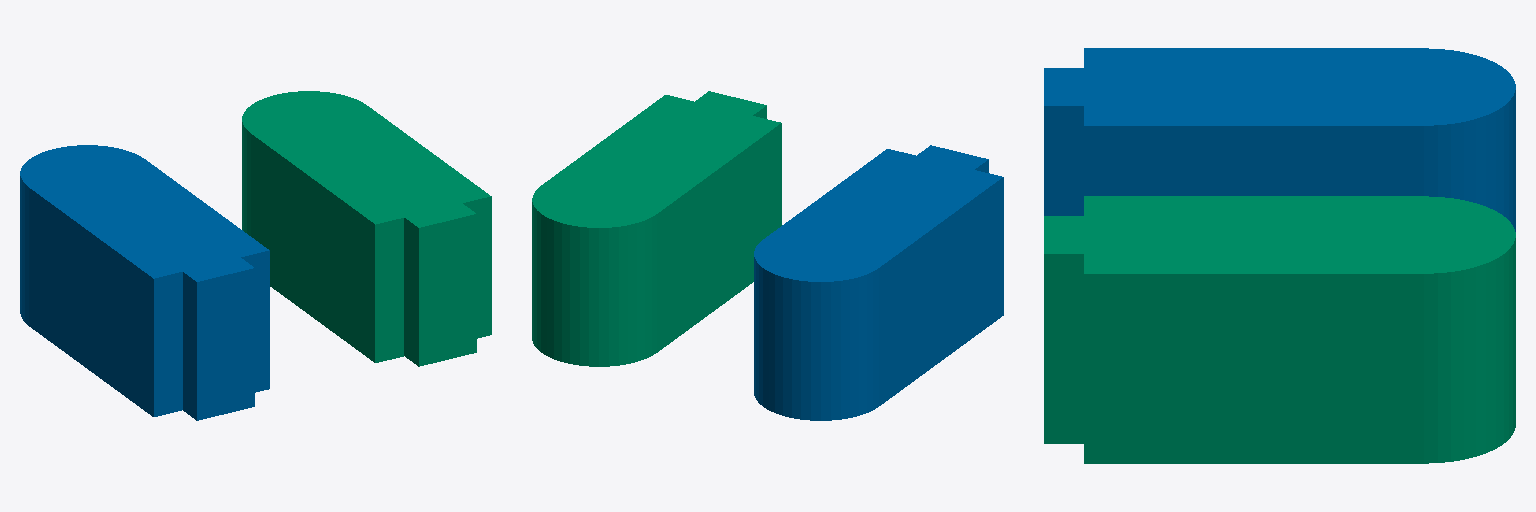
URDF robot description (2v2_50.50_50.50_1.1_53):
<?xml version="1.0" ?>
<robot name="2v2_50.50_50.50_1.1_53">

    <link name="palm">
        <visual>
            <origin rpy="0 0 0" xyz="0 0 0"/>
            <geometry>
                <mesh filename="obj_files/palm.obj" scale="1 1 1"/>
            </geometry>
        </visual>
        <collision>
            <geometry>
                <mesh filename="obj_files/palm_collision.obj" scale="1 1 1"/>
            </geometry>
        </collision>
        <inertial>
            <mass value="1"/>
            <inertia ixx="0.4" ixy="0.0" ixz="0.0" iyy="0.4" iyz="0.0" izz="0.2"/>
        </inertial>
    </link>

    <link name="finger0_segment0">
        <visual>
            <origin rpy="0 0 0" xyz="0 0 0"/>
            <geometry>
                <mesh filename="obj_files/finger0_segment0.obj" scale="1 1 1"/>
            </geometry>
        </visual>
        <collision>
            <geometry>
                <mesh filename="obj_files/finger0_segment0_collision.obj" scale="1 1 1"/>
            </geometry>
        </collision>
        <inertial>
            <mass value="0.1"/>
            <inertia ixx="0.4" ixy="0.0" ixz="0.0" iyy="0.4" iyz="0.0" izz="0.2"/>
        </inertial>
    </link>

    <joint name="finger0_segment0_joint" type="revolute">
        <parent link="palm"/>
        <child link="finger0_segment0"/>
        <origin rpy="0 0 0" xyz="0.02675 0 0.0"/>
        <axis xyz="0 0 1"/>
        <limit effort="1000.0" lower="-3.14" upper="3.14" velocity="0.5"/>
    </joint>

    <link name="finger0_segment1">
        <visual>
            <origin rpy="0 0 0" xyz="0 0 0"/>
            <geometry>
                <mesh filename="obj_files/more-accurate-finger-tip.obj" scale="0.001 0.001 0.001"/>
            </geometry>
        </visual>
        <collision>
            <geometry>
                <mesh filename="obj_files/more-accurate-finger-tip-collision.obj" scale="0.001 0.001 0.001"/>
            </geometry>
        </collision>
        <inertial>
            <mass value="0.1"/>
            <inertia ixx="0.4" ixy="0.0" ixz="0.0" iyy="0.4" iyz="0.0" izz="0.2"/>
        </inertial>
    </link>

    <joint name="finger0_segment1_joint" type="revolute">
        <parent link="finger0_segment0"/>
        <child link="finger0_segment1"/>
        <origin rpy="0 0 0" xyz="0 0.072 0"/>
        <axis xyz="0 0 1"/>
        <limit effort="1000.0" lower="-3.14" upper="3.14" velocity="0.5"/>
    </joint>

    <link name="finger1_segment0">
        <visual>
            <origin rpy="0 0 0" xyz="0 0 0"/>
            <geometry>
                <mesh filename="obj_files/finger1_segment0.obj" scale="1 1 1"/>
            </geometry>
        </visual>
        <collision>
            <geometry>
                <mesh filename="obj_files/finger1_segment0_collision.obj" scale="1 1 1"/>
            </geometry>
        </collision>
        <inertial>
            <mass value="0.1"/>
            <inertia ixx="0.4" ixy="0.0" ixz="0.0" iyy="0.4" iyz="0.0" izz="0.2"/>
        </inertial>
    </link>

    <joint name="finger1_segment0_joint" type="revolute">
        <parent link="palm"/>
        <child link="finger1_segment0"/>
        <origin rpy="0 0 0" xyz="-0.02675 0 3.27593018771917e-18"/>
        <axis xyz="0 0 1"/>
        <limit effort="1000.0" lower="-3.14" upper="3.14" velocity="0.5"/>
    </joint>

    <link name="finger1_segment1">
        <visual>
            <origin rpy="0 0 0" xyz="0 0 0"/>
            <geometry>
                <mesh filename="obj_files/more-accurate-finger-tip.obj" scale="0.001 0.001 0.001"/>
            </geometry>
        </visual>
        <collision>
            <geometry>
                <mesh filename="obj_files/more-accurate-finger-tip-collision.obj" scale="0.001 0.001 0.001"/>
            </geometry>
        </collision>
        <inertial>
            <mass value="0.1"/>
            <inertia ixx="0.4" ixy="0.0" ixz="0.0" iyy="0.4" iyz="0.0" izz="0.2"/>
        </inertial>
    </link>

    <joint name="finger1_segment1_joint" type="revolute">
        <parent link="finger1_segment0"/>
        <child link="finger1_segment1"/>
        <origin rpy="0 0 0" xyz="0 0.072 0"/>
        <axis xyz="0 0 1"/>
        <limit effort="1000.0" lower="-3.14" upper="3.14" velocity="0.5"/>
    </joint>

    <link name="finger0_sensor">
        <inertial>
            <mass value="0.000001"/>
            <inertia ixx="0.000004" ixy="0.0" ixz="0.0" iyy="0.000004" iyz="0.0" izz="0.000002"/>
        </inertial>
    </link>

    <joint name="finger0_sensor1_joint" type="fixed">
        <parent link="finger0_segment1"/>
        <child link="finger0_sensor"/>
        <origin rpy="0 0 0" xyz="0 0.072 0"/>
        <axis xyz="0 0 1"/>
        <limit effort="1000.0" lower="-3.14" upper="3.14" velocity="0.5"/>
    </joint>


    <link name="finger1_sensor">
        <inertial>
            <mass value="0.000001"/>
            <inertia ixx="0.000004" ixy="0.0" ixz="0.0" iyy="0.000004" iyz="0.0" izz="0.000002"/>
        </inertial>
    </link>

    <joint name="finger1_sensor2_joint" type="fixed">
        <parent link="finger1_segment1"/>
        <child link="finger1_sensor"/>
        <origin rpy="0 0 0" xyz="0 0.072 0"/>
        <axis xyz="0 0 1"/>
        <limit effort="1000.0" lower="-3.14" upper="3.14" velocity="0.5"/>
    </joint>
</robot>

--- Render facts (derived) ---
The picture shows the robot from 3 angles, left to right: view 1: azimuth 30°, elevation 25°; view 2: azimuth 150°, elevation 25°; view 3: azimuth 270°, elevation 25°; orthographic projection.
Robot: 2v2_50.50_50.50_1.1_53 — 7 links, 6 joints (4 revolute, 2 fixed); root link palm; default pose: all joints at 0.
Visible links, largest first — view 1: finger1_segment1, finger0_segment1; view 2: finger1_segment1, finger0_segment1; view 3: finger0_segment1, finger1_segment1.
Link boxes in pixels (x1,y1,x2,y2): finger1_segment1: (20,145,269,420); finger0_segment1: (242,91,491,366); finger1_segment1: (754,145,1003,420); finger0_segment1: (532,91,781,366); finger0_segment1: (1044,196,1515,463); finger1_segment1: (1044,48,1515,231).
Size in the robot's own frame: 0.0815 by 0.072 by 0.032 metres.
2 mesh visuals loaded from 4 distinct referenced files (1 OBJ); not drawn: 3 (reference not matched to a file when rendering).